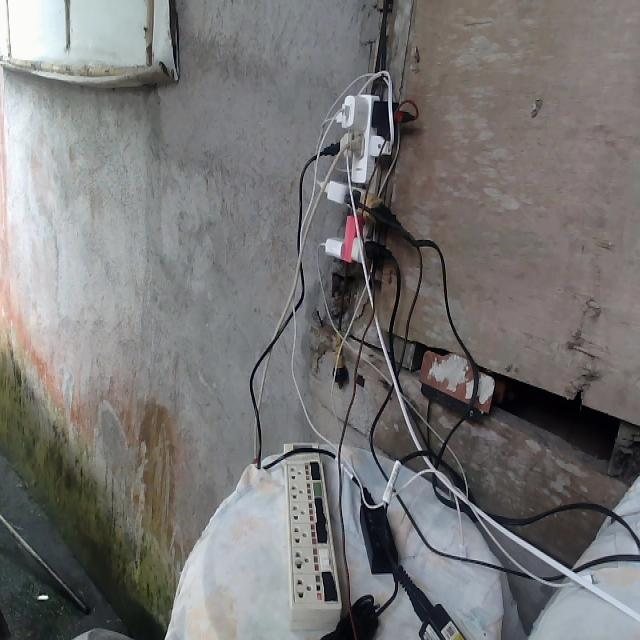-: (316, 90, 403, 266)
